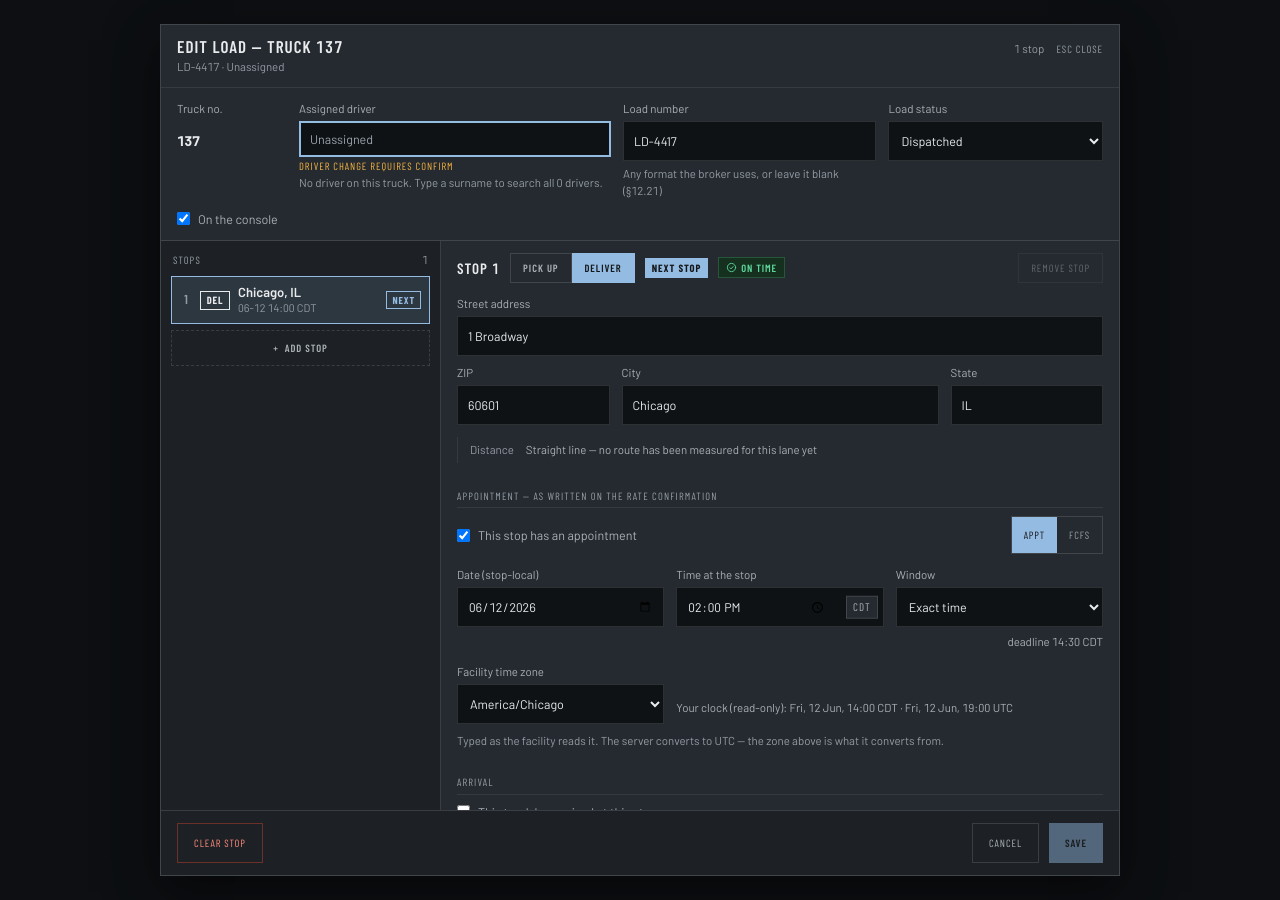
Test: the label says what is stored › names the deadline under it, and follows the choice
The image size is (1280, 900).
Step 1. Select "Exact time" in the dropdown labelled "Window" → coordinates (999, 607), box 896,587 -> 1103,627
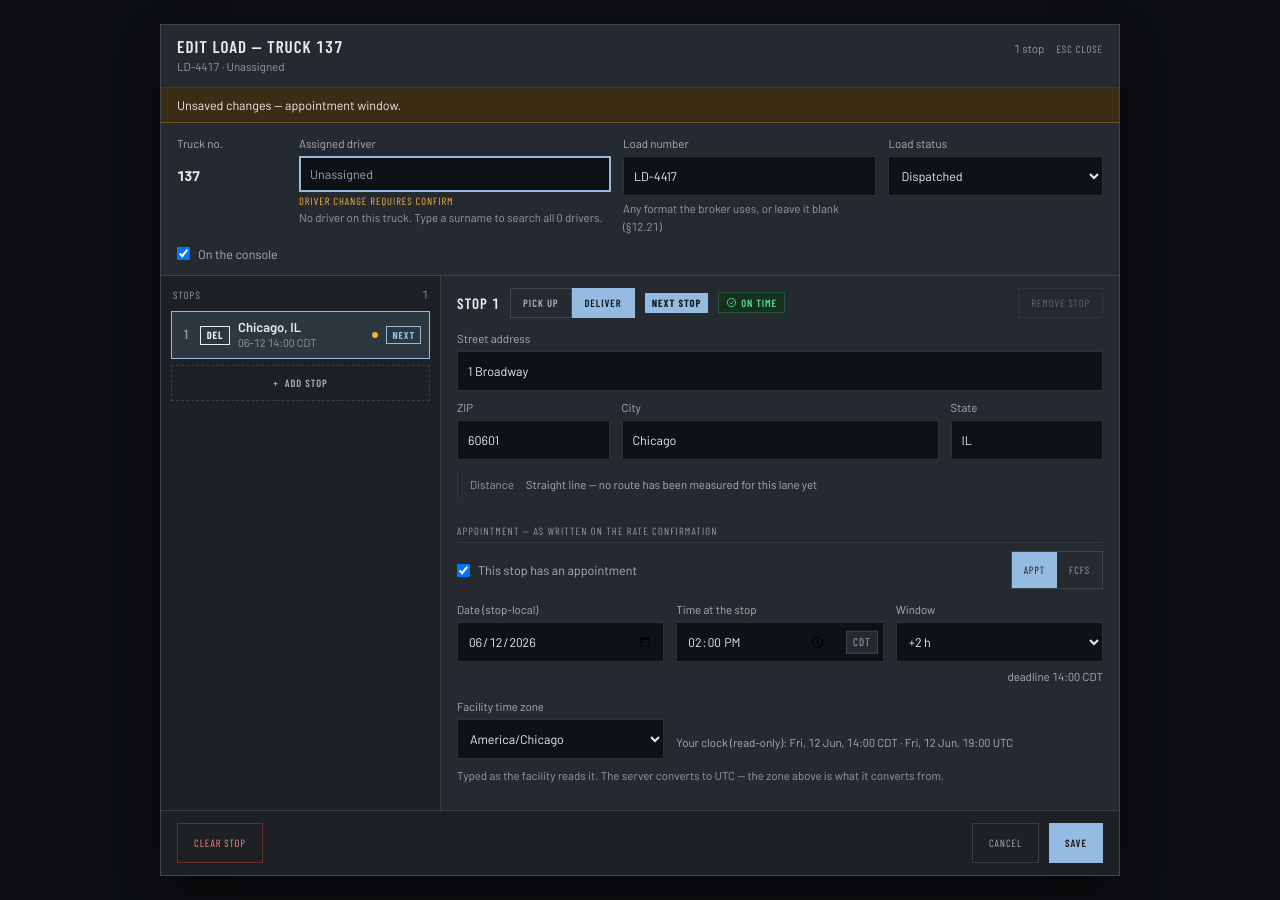
Expected: the text "deadline 14:00 CDT" is shown, 1007,669 -> 1103,683
Step 2. Select "+2 h" in the dropdown labelled "Window" → coordinates (999, 642), box 896,622 -> 1103,662
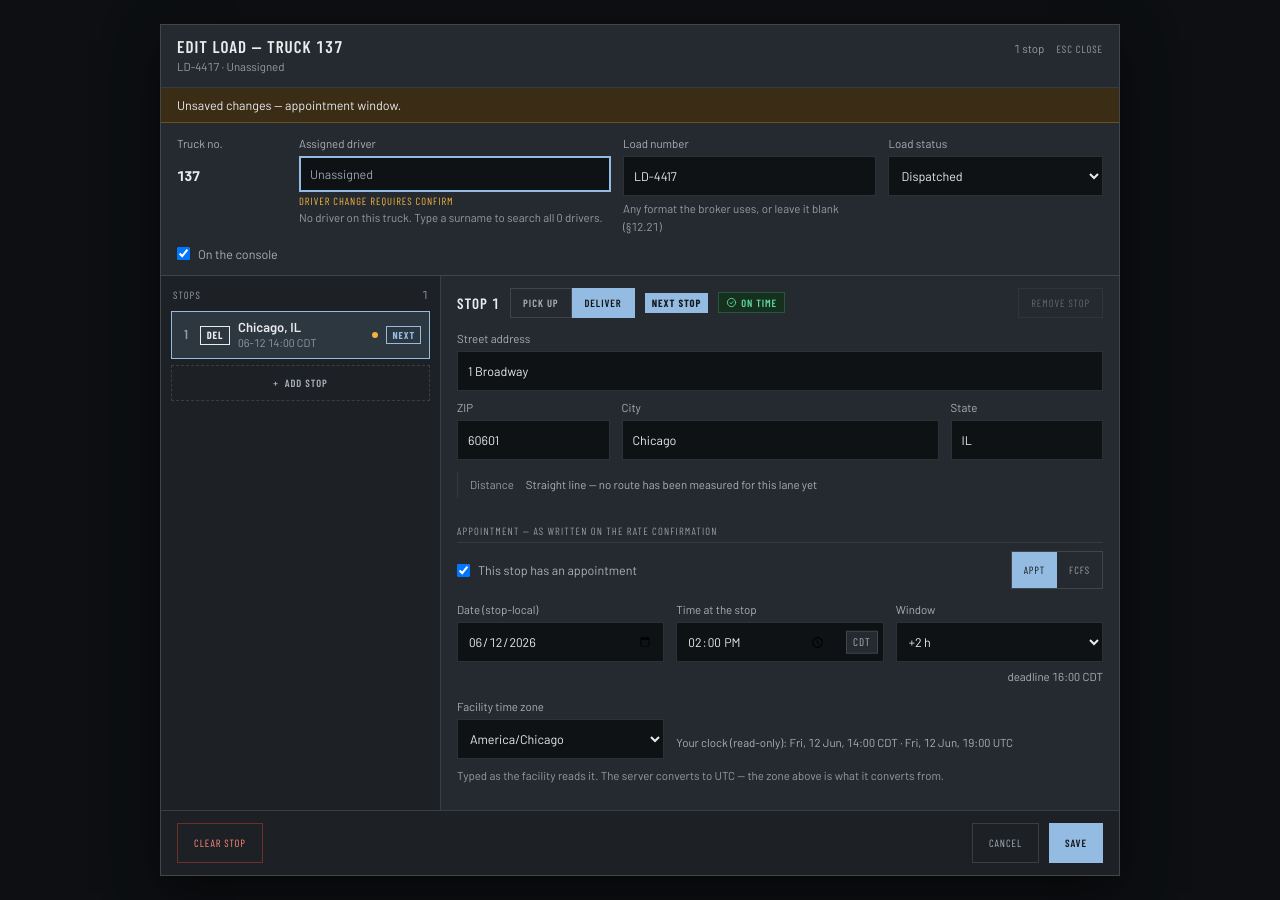
Expected: the text "deadline 16:00 CDT" is shown, 1007,669 -> 1103,683
